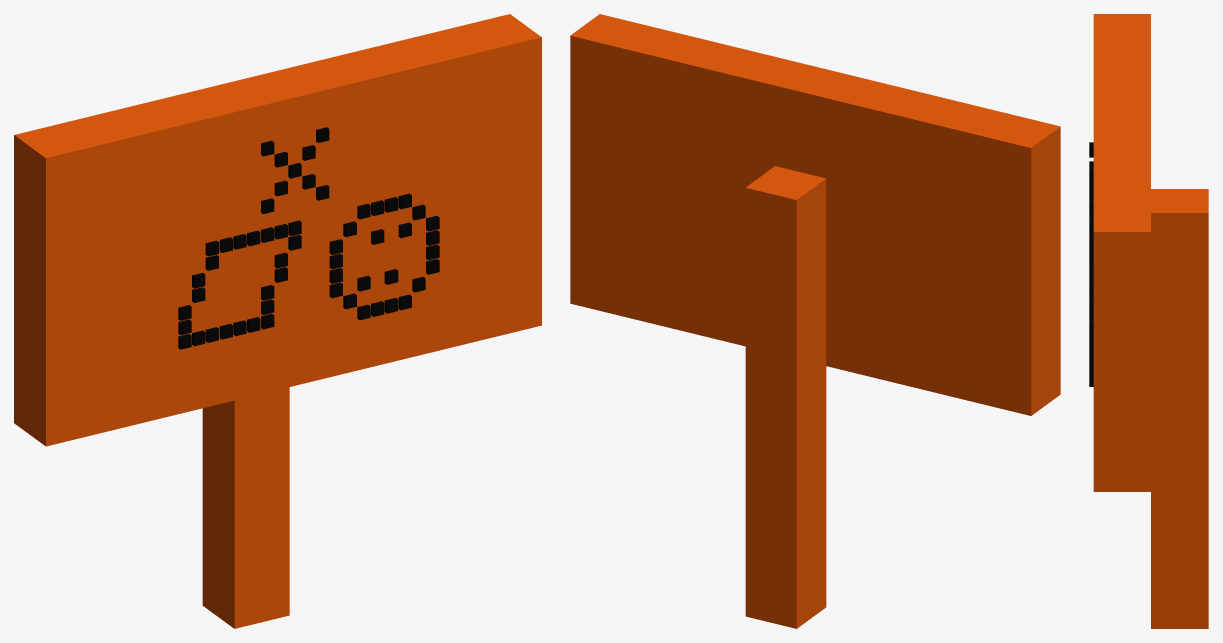
File: NoNeedCoin.fbx
The picture shows the model from 3 angles, left to right: view 1: azimuth 30°, elevation 25°; view 2: azimuth 150°, elevation 25°; view 3: azimuth 270°, elevation 25°; orthographic projection. The views are drawn at different scales.
Visible parts, largest first — view 1: 板, 杭; view 2: 板, 杭; view 3: 板, 杭.
Boxes of the visible parts, x1=… form: 板: x1=14, y1=14, x2=541, y2=446; 杭: x1=202, y1=387, x2=289, y2=628; 板: x1=570, y1=14, x2=1060, y2=415; 杭: x1=745, y1=166, x2=826, y2=628; 板: x1=1093, y1=14, x2=1150, y2=491; 杭: x1=1151, y1=189, x2=1208, y2=628.
Bounding box in the file's own units: 180 × 190 × 41.5.
